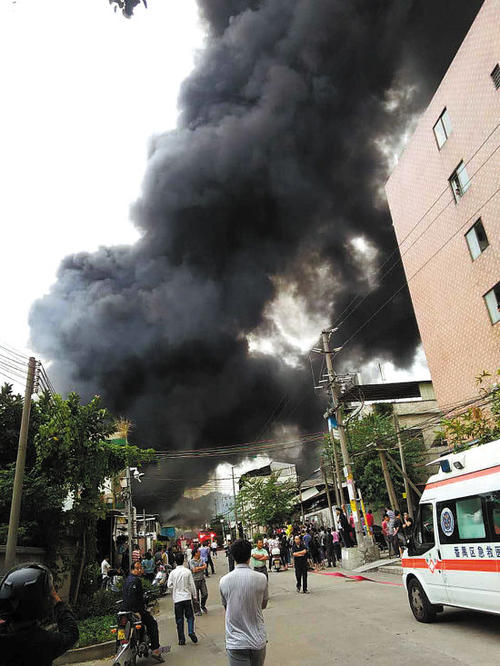smoke: (32, 5, 408, 433)
